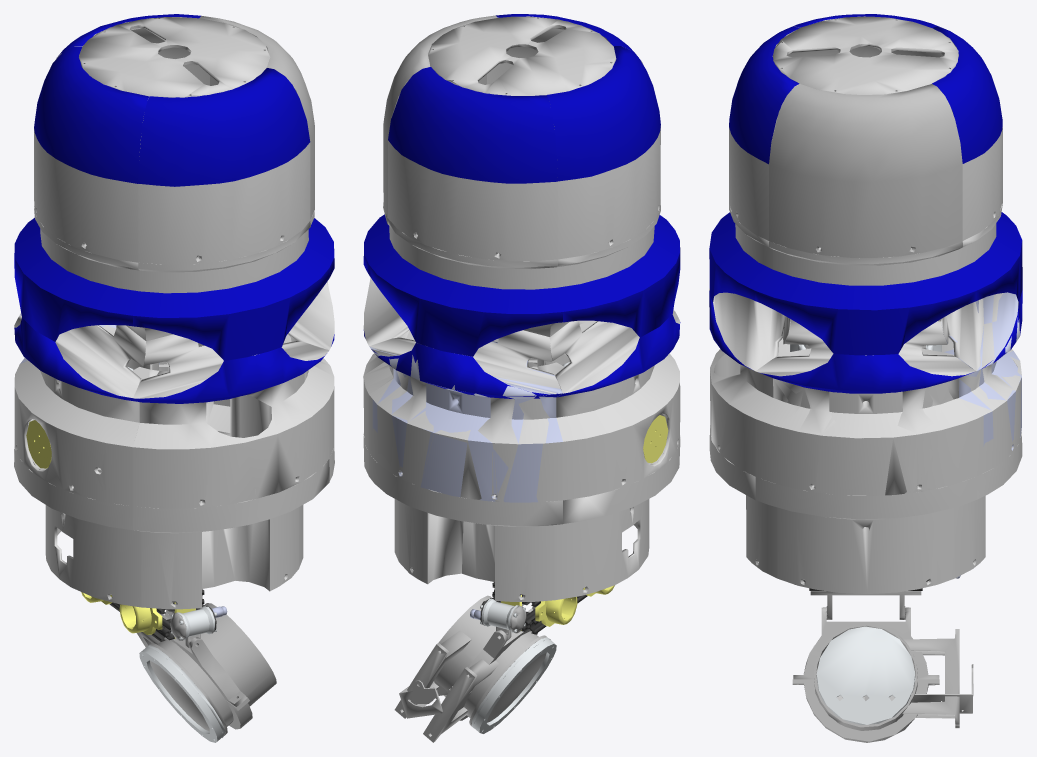
Rendered from PKRC_robot.obj.
3 views of the same model, side by side, from view 1: azimuth 30°, elevation 25°; view 2: azimuth 150°, elevation 25°; view 3: azimuth 270°, elevation 25° (orthographic). The views are drawn at different scales.
Parts seen in each view (by area): view 1: PKRC_robot; view 2: PKRC_robot; view 3: PKRC_robot.
Part boxes in pixels (<box>): PKRC_robot: <box>14,14,334,742</box>; PKRC_robot: <box>363,14,680,742</box>; PKRC_robot: <box>709,14,1022,742</box>.
Bounding box in the file's own units: 42.1 × 100 × 42.09.
